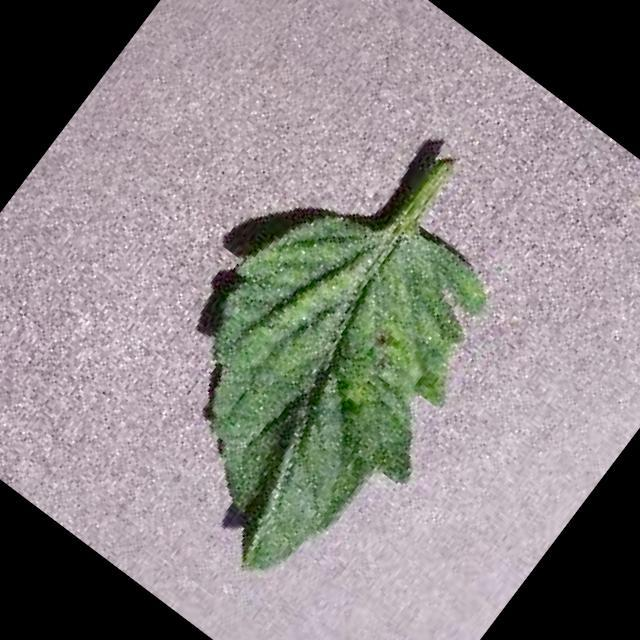Tomato mosaic virus leaf: (96, 150, 538, 617)
